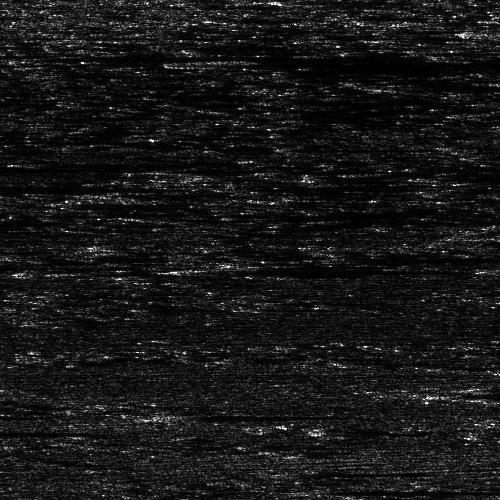object: (409, 26, 500, 43), (142, 263, 235, 274), (381, 388, 474, 399), (120, 412, 213, 419), (249, 466, 302, 477), (125, 165, 198, 170), (484, 207, 500, 228), (5, 159, 68, 164), (461, 383, 500, 390), (238, 0, 301, 4), (476, 267, 500, 272), (298, 488, 329, 491)
shadow: (189, 263, 425, 274), (276, 466, 393, 477), (0, 426, 99, 437), (211, 61, 500, 64), (166, 412, 288, 419), (36, 159, 205, 164), (428, 388, 500, 399), (313, 488, 500, 491), (269, 0, 396, 4), (161, 165, 221, 170), (482, 383, 500, 390)
